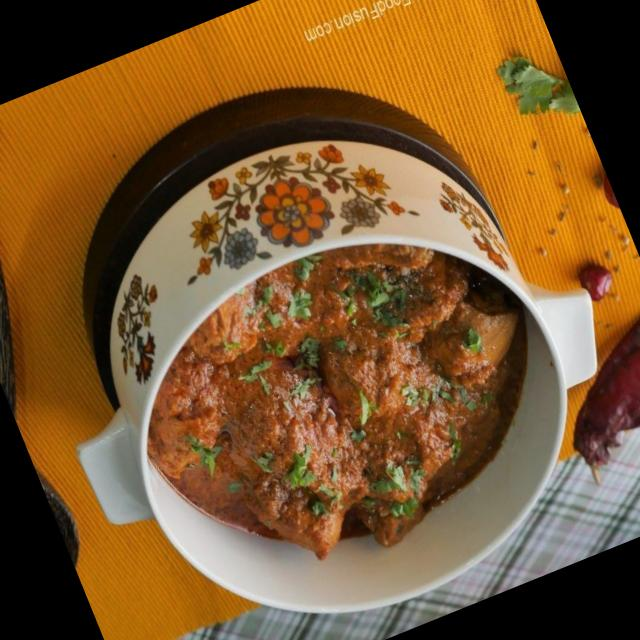chicken: (97, 198, 592, 640)
